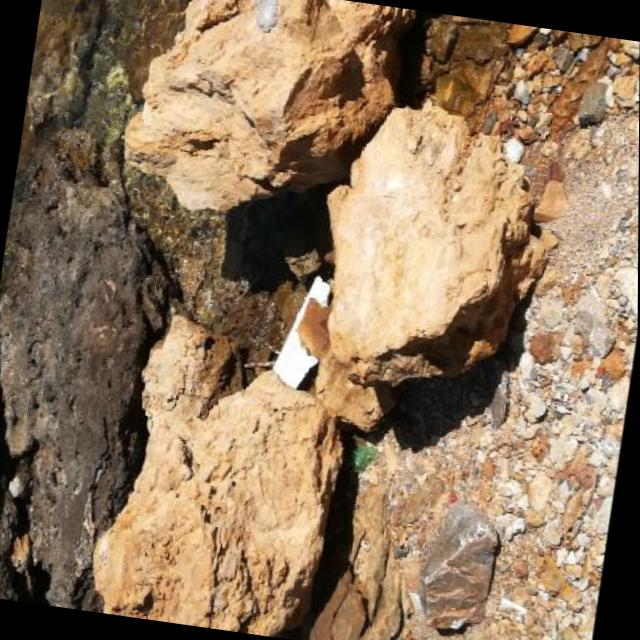foam: (271, 270, 334, 394)
